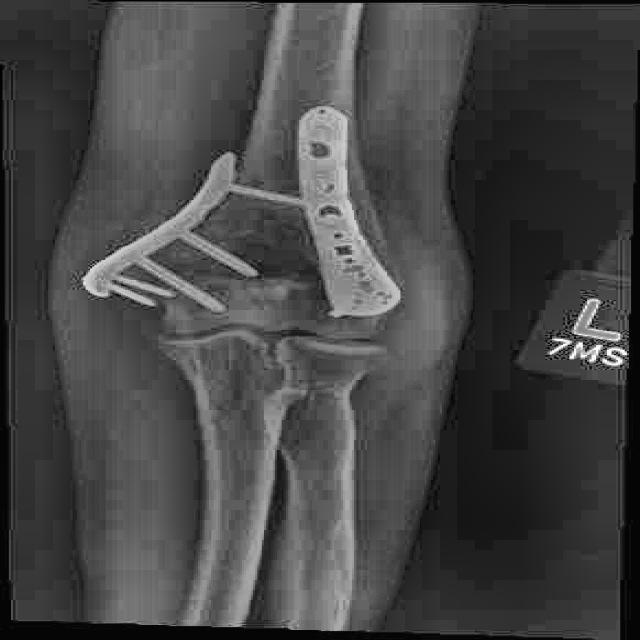elbow positive: (137, 238, 266, 299)
